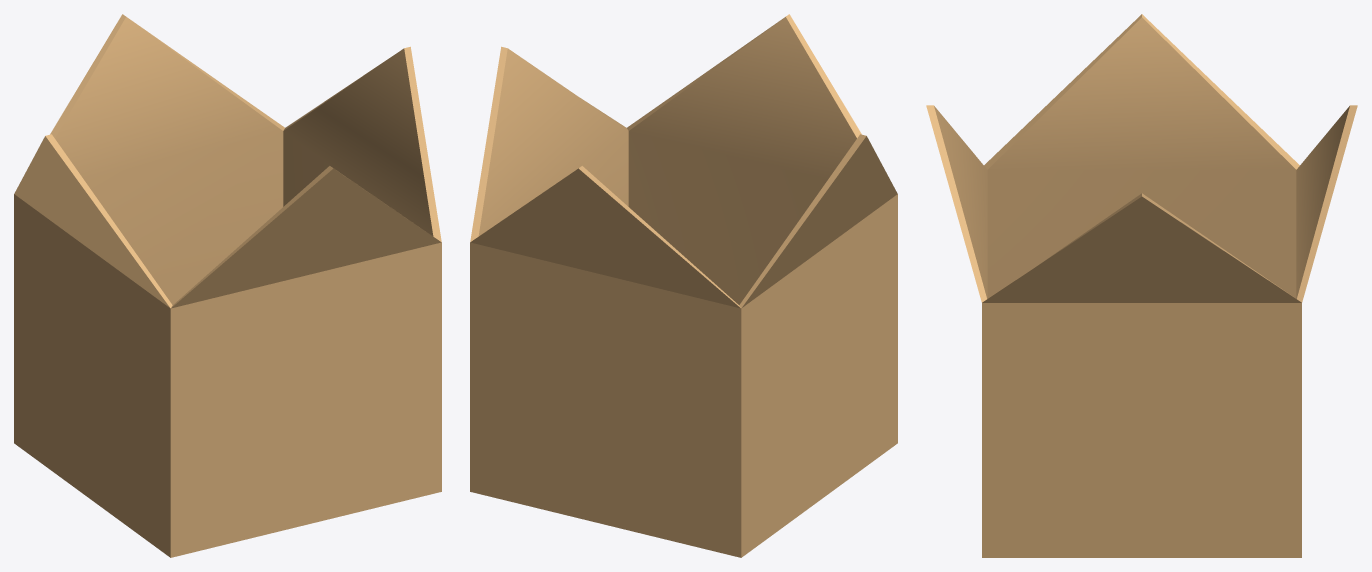
Rendered from shippingbox.fbx.
3 views of the same model, side by side, from view 1: azimuth 30°, elevation 25°; view 2: azimuth 150°, elevation 25°; view 3: azimuth 270°, elevation 25° (orthographic). The views are drawn at different scales.
Visible parts, largest first — view 1: Cube.001; view 2: Cube.001; view 3: Cube.001.
Part boxes in pixels (box(x1,y1,x2,y2)): Cube.001: box(14, 14, 441, 557); Cube.001: box(470, 14, 897, 557); Cube.001: box(926, 14, 1357, 557).
Size of the model in its own units: 325 by 320 by 325.
